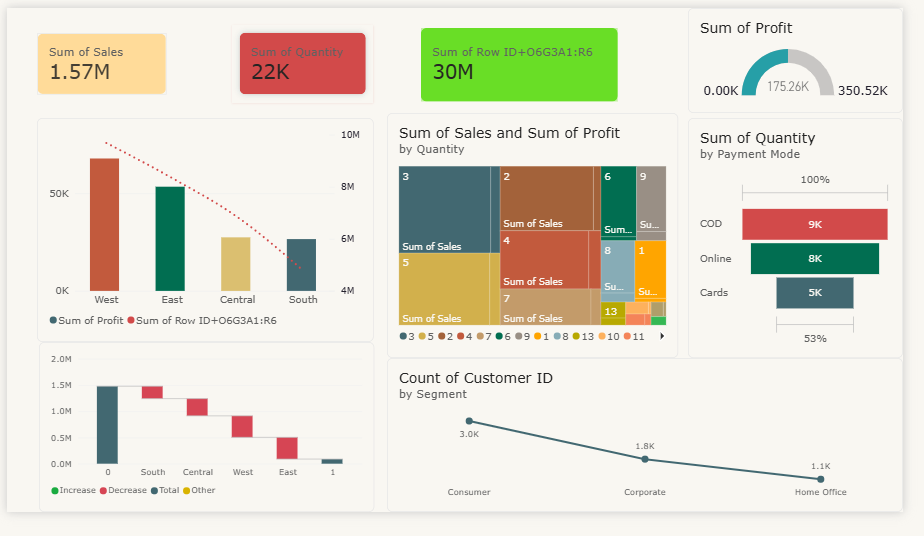

The page's visual inventory and layout, read from the dashboard file:
{"tool":"powerbi","page":{"name":"Page 2","canvas":[1280,720],"ordinal":1},"visuals":[{"type":"cardVisual","fields":{"Data":["Sum(SuperStore_Sales_Dataset.Sales)"]},"box":[42.5,35,185,88.8],"z":0},{"type":"treemap","fields":{"Group":["SuperStore_Sales_Dataset.Quantity"],"Values":["Sum(SuperStore_Sales_Dataset.Sales)","Sum(SuperStore_Sales_Dataset.Profit)"]},"box":[542.9,150,415.7,350],"z":1000},{"type":"cardVisual","fields":{"Data":["Sum(SuperStore_Sales_Dataset.Quantity)"]},"box":[321.2,23.8,202.3,110.5],"z":2000},{"type":"lineClusteredColumnComboChart","fields":{"Category":["SuperStore_Sales_Dataset.Region"],"Y":["Sum(SuperStore_Sales_Dataset.Profit)"],"Y2":["Sum(SuperStore_Sales_Dataset.Row ID+O6G3A1:R6)"]},"box":[42.9,157.1,481.4,320],"z":3000},{"type":"funnel","fields":{"Category":["SuperStore_Sales_Dataset.Payment Mode"],"Y":["Sum(SuperStore_Sales_Dataset.Quantity)"]},"box":[972.9,157.1,307.1,342.9],"z":4000},{"type":"cardVisual","fields":{"Data":["Sum(SuperStore_Sales_Dataset.Row ID+O6G3A1:R6)"]},"box":[591.4,28.6,281.4,105.7],"z":5000},{"type":"waterfallChart","fields":{"Category":["SuperStore_Sales_Dataset.Returns"],"Y":["Sum(SuperStore_Sales_Dataset.Sales)"],"Breakdown":["SuperStore_Sales_Dataset.Region"]},"box":[45.7,477.1,478.6,242.9],"z":6000},{"type":"gauge","fields":{"Y":["Sum(SuperStore_Sales_Dataset.Profit)"]},"box":[973,0,307,150],"z":7000},{"type":"lineChart","fields":{"Category":["SuperStore_Sales_Dataset.Order ID","SuperStore_Sales_Dataset.Customer Name","SuperStore_Sales_Dataset.Profit","SuperStore_Sales_Dataset.Product ID","SuperStore_Sales_Dataset.Segment"],"Y":["CountNonNull(SuperStore_Sales_Dataset.Customer ID)"]},"box":[542.9,500,737.1,220],"z":8000}]}

Visuals, with their boxes on the page's 1280x720 design canvas (x1, y1, x2, y2). These are canvas units, not pixel positions in the 924x536 screenshot, which may show the page scaled, cropped or inside an application window:
cardVisual - Sum(SuperStore_Sales_Dataset.Sales): l=42, t=35, r=228, b=124
treemap - SuperStore_Sales_Dataset.Quantity x Sum(SuperStore_Sales_Dataset.Sales): l=543, t=150, r=959, b=500
cardVisual - Sum(SuperStore_Sales_Dataset.Quantity): l=321, t=24, r=524, b=134
lineClusteredColumnComboChart - SuperStore_Sales_Dataset.Region x Sum(SuperStore_Sales_Dataset.Profit): l=43, t=157, r=524, b=477
funnel - SuperStore_Sales_Dataset.Payment Mode x Sum(SuperStore_Sales_Dataset.Quantity): l=973, t=157, r=1280, b=500
cardVisual - Sum(SuperStore_Sales_Dataset.Row ID+O6G3A1:R6): l=591, t=29, r=873, b=134
waterfallChart - SuperStore_Sales_Dataset.Returns x Sum(SuperStore_Sales_Dataset.Sales): l=46, t=477, r=524, b=720
gauge - Sum(SuperStore_Sales_Dataset.Profit): l=973, t=0, r=1280, b=150
lineChart - SuperStore_Sales_Dataset.Order ID x SuperStore_Sales_Dataset.Customer Name: l=543, t=500, r=1280, b=720
